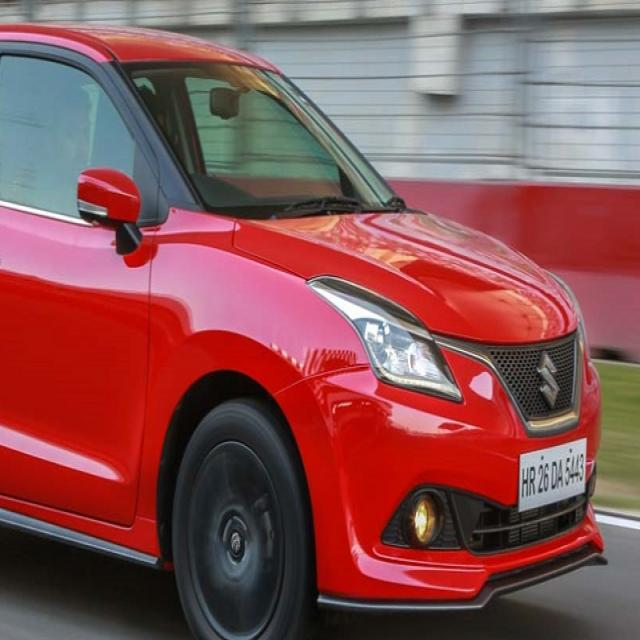license-plate: (516, 433, 586, 512)
